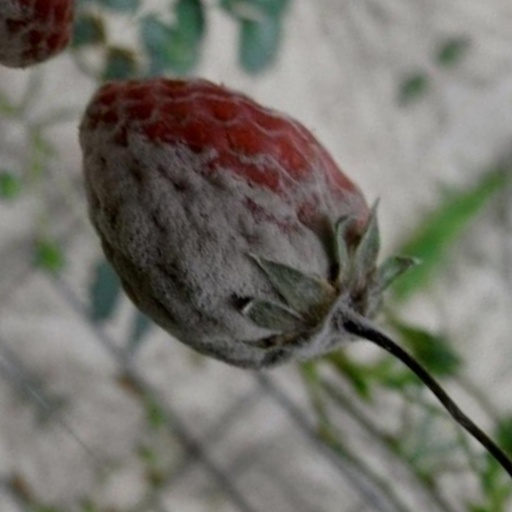Gray Mold: (132, 118, 389, 483)
